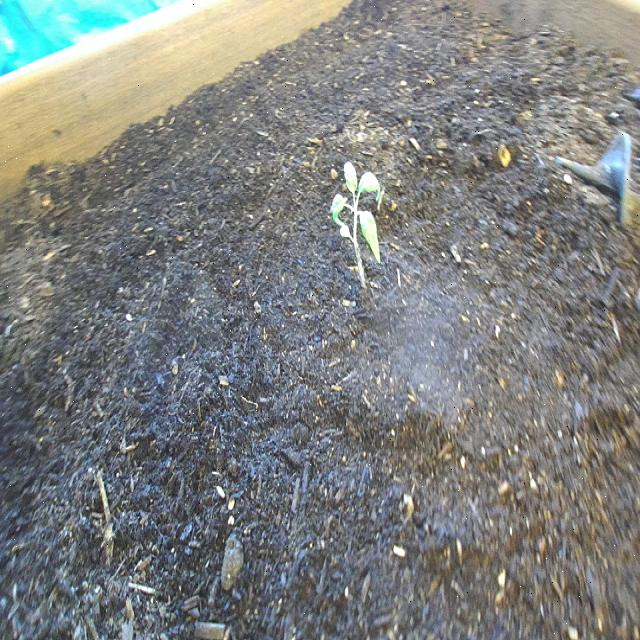Healthy: (328, 160, 387, 296)
